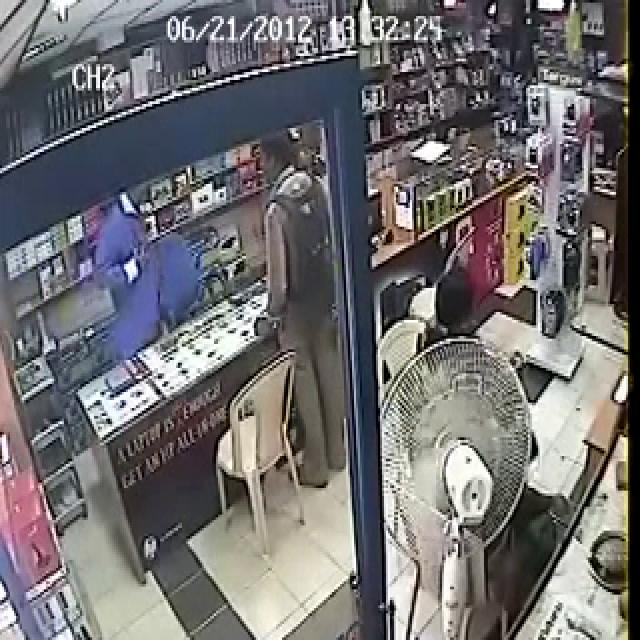shoplifting: (264, 83, 591, 640)
